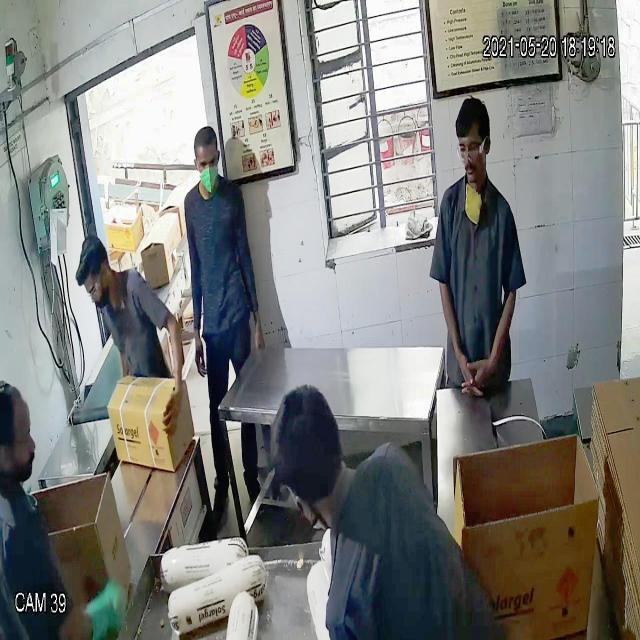glasses: (453, 135, 491, 165), (190, 149, 222, 175)
